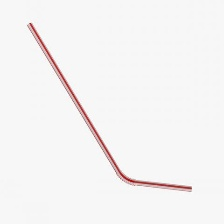drinking_straw: (24, 20, 194, 197)
